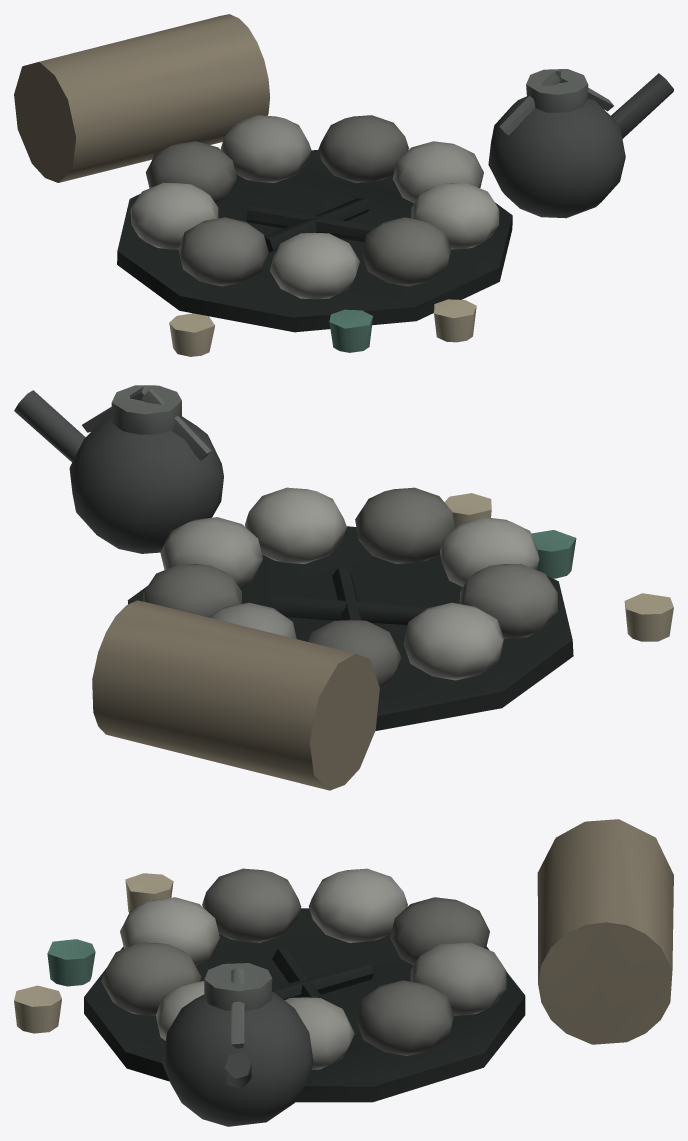
File: tea_hearth_a_lod1.glb
3 renders of one model, top to bottom at view 1: azimuth 30°, elevation 25°; view 2: azimuth 150°, elevation 25°; view 3: azimuth 270°, elevation 25°, orthographic. The views are drawn at different scales.
Parts seen in each view (by area): view 1: Surface.001; view 2: Surface.001; view 3: Surface.001.
Part boxes in pixels (<box>): Surface.001: <box>14,14,673,356</box>; Surface.001: <box>14,385,673,790</box>; Surface.001: <box>14,819,673,1126</box>.
Size of the model in its own units: 3.06 by 0.804 by 2.96.
